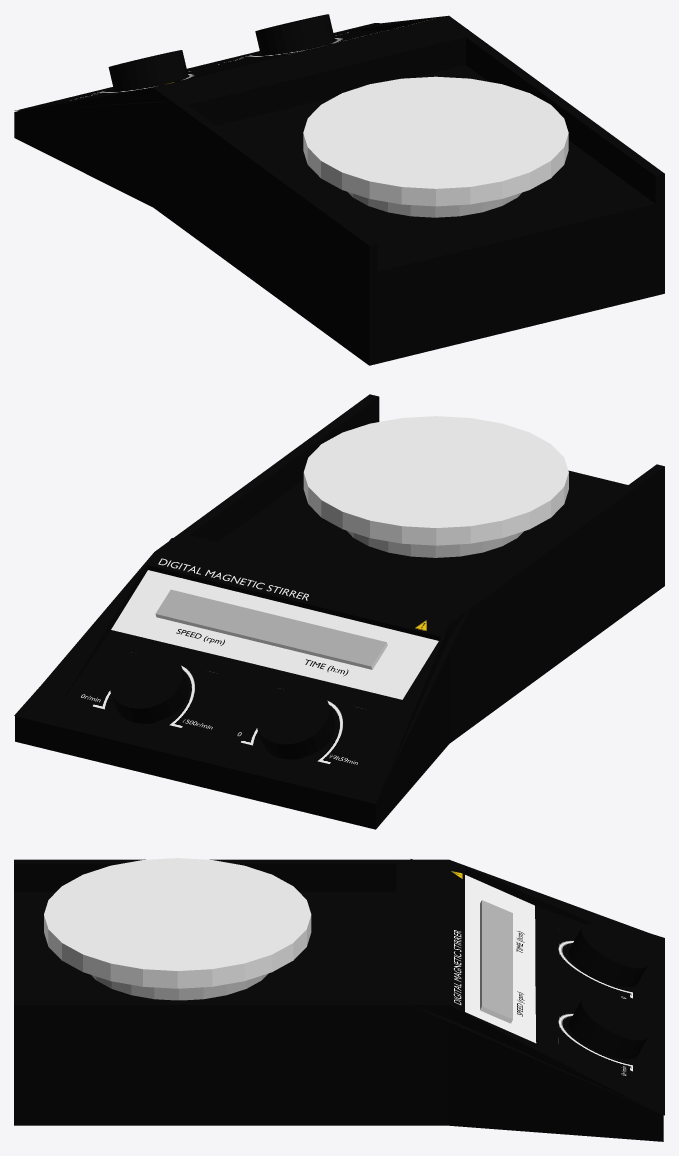
The model's file is alat-pencampur-kimia.fbx.
3 renders of one model, top to bottom at view 1: azimuth 30°, elevation 25°; view 2: azimuth 150°, elevation 25°; view 3: azimuth 270°, elevation 25°, orthographic.
Visible parts, largest first — view 1: magnetic-stirrer, Plane; view 2: magnetic-stirrer, Plane, circle.002, circle.001; view 3: magnetic-stirrer, Plane, circle.001, circle.002.
Boxes of the visible parts, left/top/right/bottom form: magnetic-stirrer: left=14, top=14, right=664, bottom=365; Plane: left=14, top=23, right=467, bottom=110; magnetic-stirrer: left=15, top=394, right=664, bottom=829; Plane: left=14, top=538, right=469, bottom=803; circle.002: left=240, top=688, right=366, bottom=763; circle.001: left=92, top=652, right=217, bottom=727; magnetic-stirrer: left=14, top=858, right=663, bottom=1141; Plane: left=410, top=859, right=664, bottom=1115; circle.001: left=558, top=1000, right=632, bottom=1071; circle.002: left=558, top=927, right=632, bottom=998.
Size of the model in its own units: 27.97 by 10.16 by 43.27.
6 materials, 2 textured.
